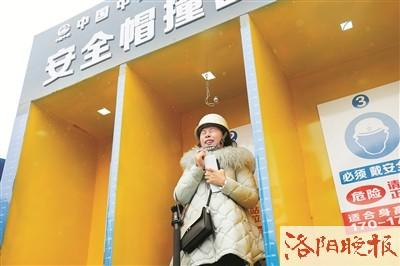helmet: (193, 115, 232, 138)
